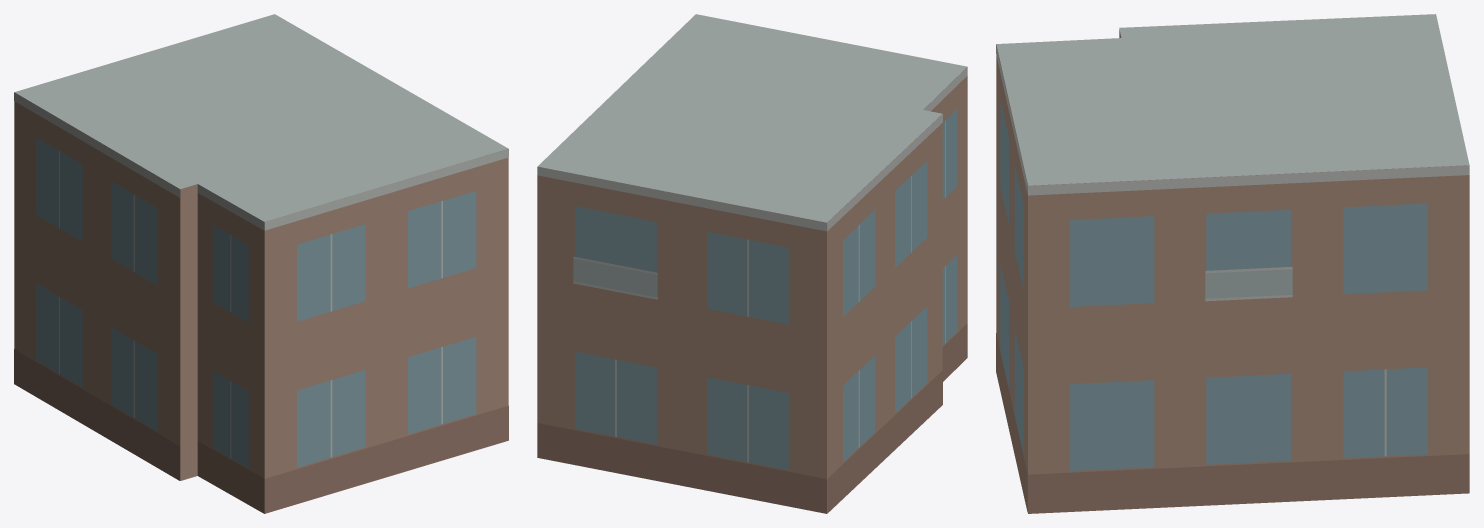
File: survey-upis-32665706.glb
3 views of the same model, side by side, from view 1: azimuth 30°, elevation 25°; view 2: azimuth 150°, elevation 25°; view 3: azimuth 270°, elevation 25° (orthographic). The views are drawn at different scales.
Parts seen in each view (by area): view 1: survey-upis-32665706.tmp; view 2: survey-upis-32665706.tmp; view 3: survey-upis-32665706.tmp.
Part boxes in pixels (left/top/right/bottom): survey-upis-32665706.tmp: left=14, top=14, right=508, bottom=513; survey-upis-32665706.tmp: left=537, top=14, right=967, bottom=513; survey-upis-32665706.tmp: left=996, top=14, right=1469, bottom=513.
Size of the model in its own units: 9.1 by 8.1 by 10.6.
